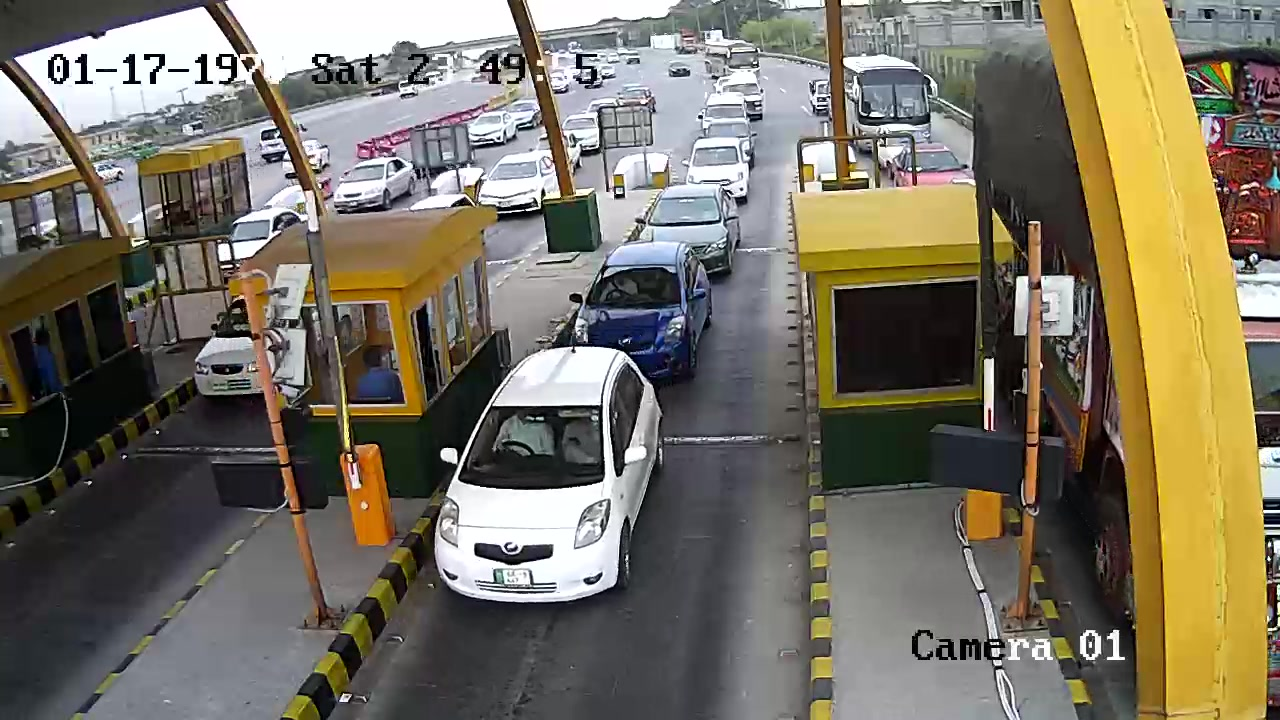F1: (423, 342, 678, 613)
